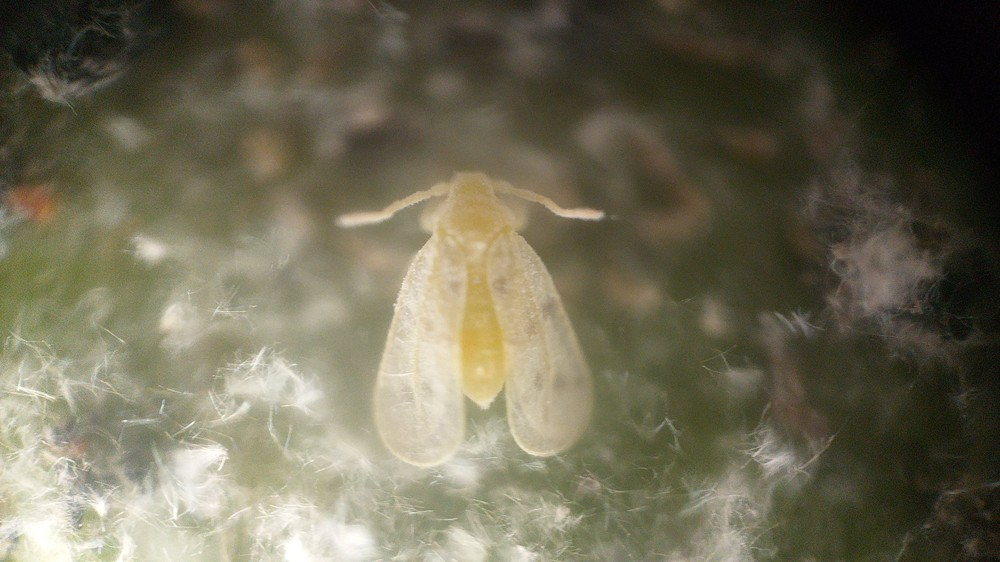Mosca Blanca: (323, 153, 627, 482)
